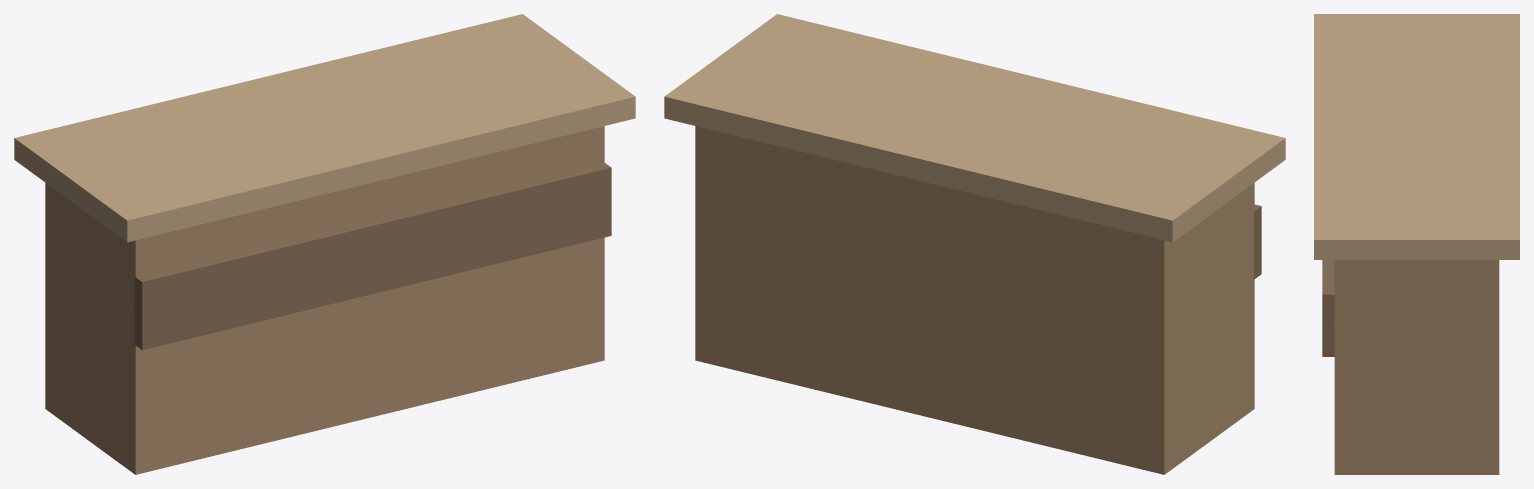
File: shop_counter.glb
The picture shows the model from 3 angles, left to right: view 1: azimuth 30°, elevation 25°; view 2: azimuth 150°, elevation 25°; view 3: azimuth 270°, elevation 25°; orthographic projection. The views are drawn at different scales.
Visible parts, largest first — view 1: shop_counter_00, shop_counter_01, shop_counter_02; view 2: shop_counter_00, shop_counter_01; view 3: shop_counter_01, shop_counter_00, shop_counter_02.
Part boxes in pixels (x1,y1,x2,y2): shop_counter_00: (45, 126, 604, 474); shop_counter_01: (14, 14, 635, 242); shop_counter_02: (134, 162, 611, 350); shop_counter_00: (695, 126, 1254, 474); shop_counter_01: (664, 14, 1285, 242); shop_counter_01: (1314, 14, 1519, 259); shop_counter_00: (1334, 260, 1499, 474); shop_counter_02: (1322, 260, 1335, 356).
Size of the model in its own units: 1.95 by 0.98 by 0.75.
